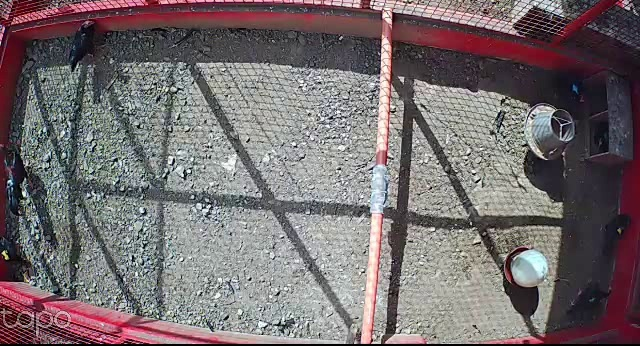Chicken: (66, 20, 109, 74), (561, 281, 614, 320), (595, 212, 633, 261)
Drinker: (502, 245, 550, 291)
Feeder: (523, 103, 576, 161)
Rooster: (0, 138, 35, 223)
Saddle_Color_Blue: (572, 84, 580, 93)
